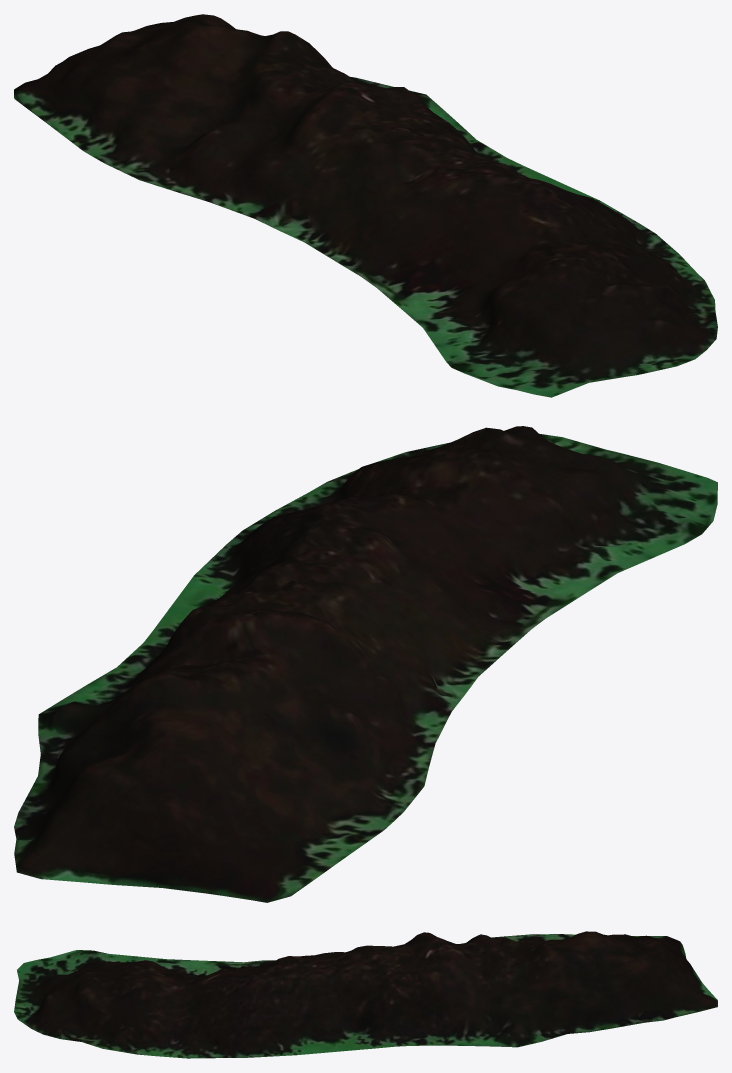
Rendered from dirt_crawl_dirt_07.fbx.
3 views of the same model, one above another, from view 1: azimuth 30°, elevation 25°; view 2: azimuth 150°, elevation 25°; view 3: azimuth 270°, elevation 25° (orthographic). The views are drawn at different scales.
Parts seen in each view (by area): view 1: dirt_07; view 2: dirt_07; view 3: dirt_07.
Part boxes in pixels (x1,y1,x2,y2): dirt_07: (14,14,717,397); dirt_07: (14,426,717,902); dirt_07: (14,931,717,1058).
Size of the model in its own units: 0.294 by 0.0667 by 0.7079.
Materials: 1 (1 with a texture image).
